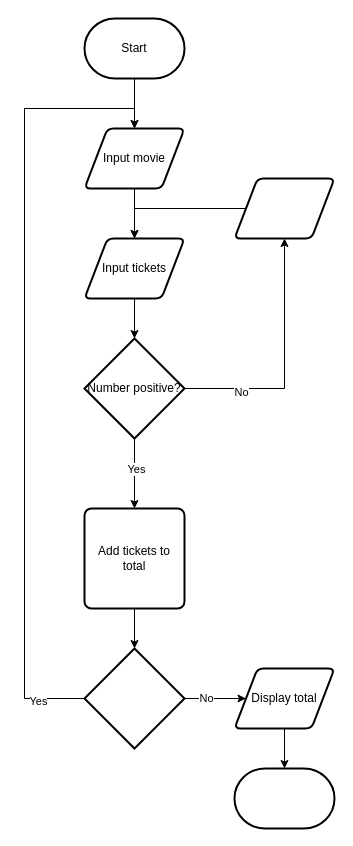
The diagram is 353 pixels wide and 846 high, and some of its shapes have lost their labels. Each missing label, with the centre of its shape:
"Display error" goes at point 284,208.
"End" goes at point 284,798.
"More tickets?" goes at point 134,698.
